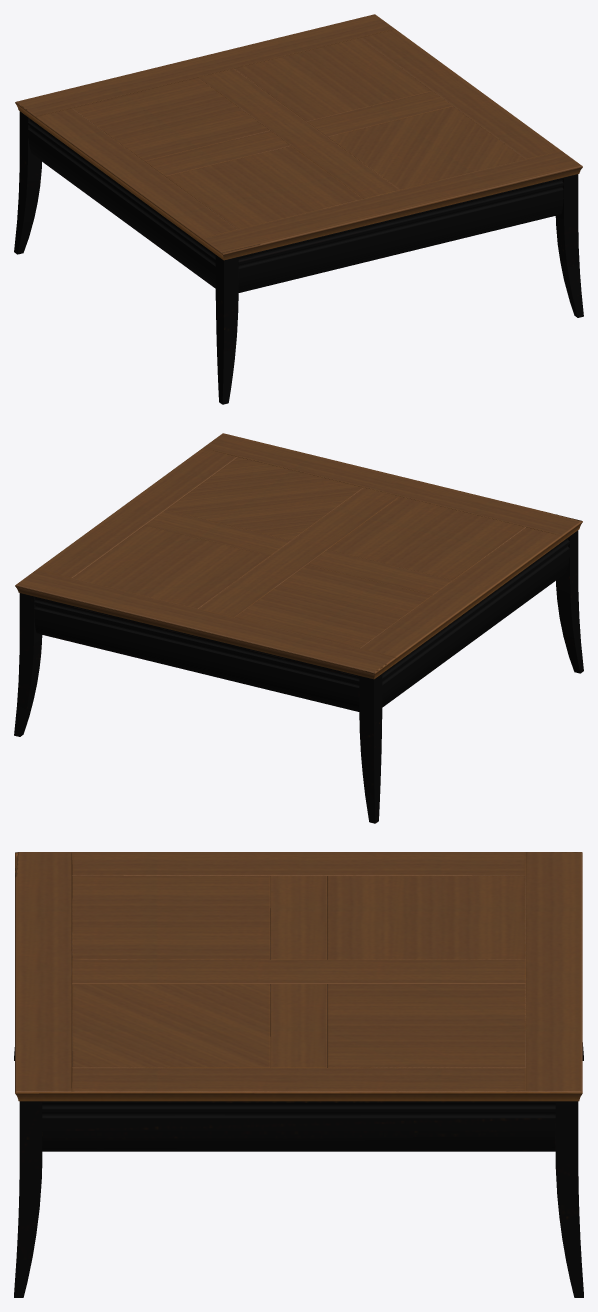
Rendered from raw_model.obj.
The picture shows the model from 3 angles, top to bottom: view 1: azimuth 30°, elevation 25°; view 2: azimuth 150°, elevation 25°; view 3: azimuth 270°, elevation 25°; orthographic projection. The views are drawn at different scales.
Visible parts, largest first — view 1: solid_002, solid_001; view 2: solid_002, solid_001; view 3: solid_002, solid_001.
Boxes of the visible parts, <box> form: solid_002: <box>15,14,582,260</box>; solid_001: <box>14,111,583,404</box>; solid_002: <box>15,433,582,679</box>; solid_001: <box>14,530,583,823</box>; solid_002: <box>15,852,582,1101</box>; solid_001: <box>14,1042,583,1297</box>.
Bounding box in the file's own units: 1 × 0.4 × 1.
Materials: 1 (1 with a texture image).
